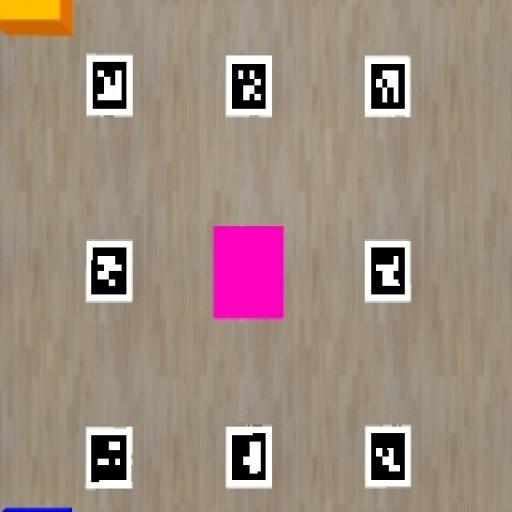car: (213, 227, 284, 319), (2, 506, 73, 511)
fire: (0, 0, 73, 36)
